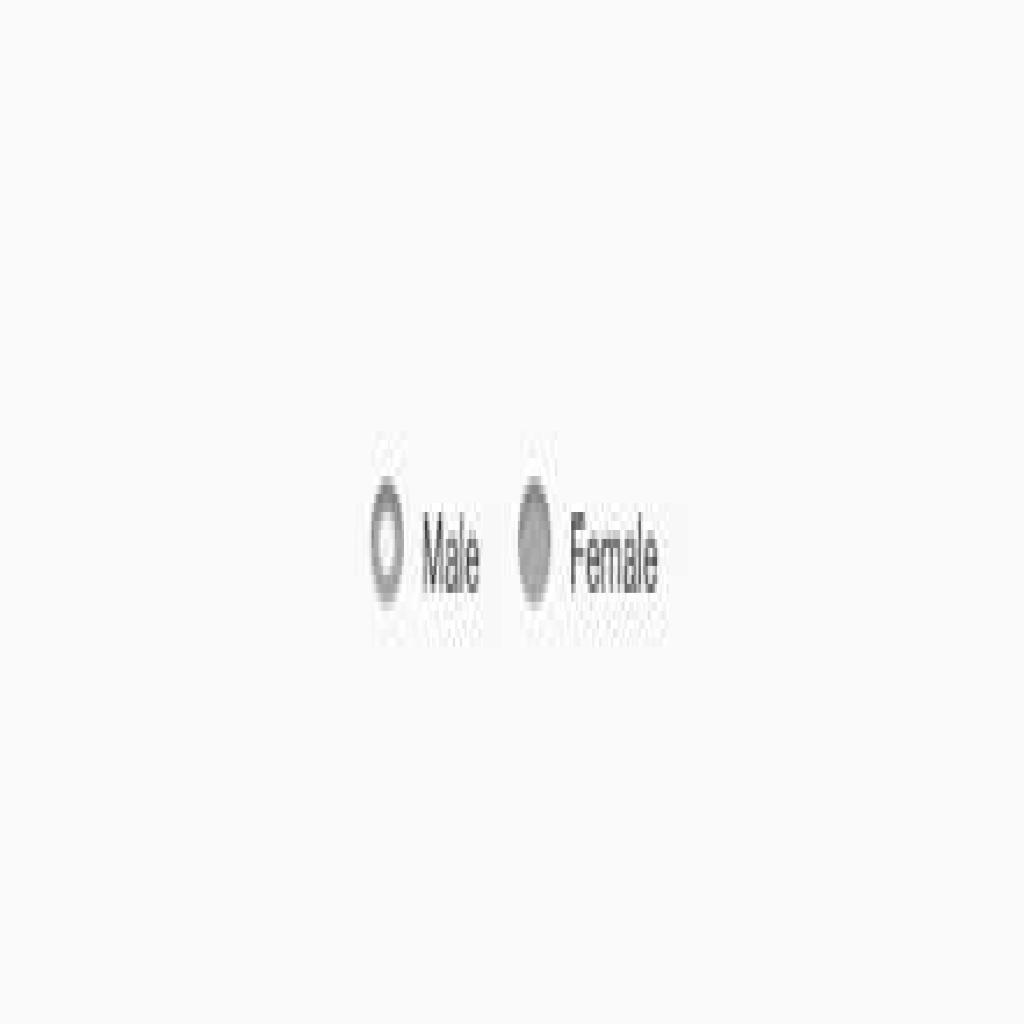radio: (364, 474, 410, 609), (514, 475, 557, 606)
